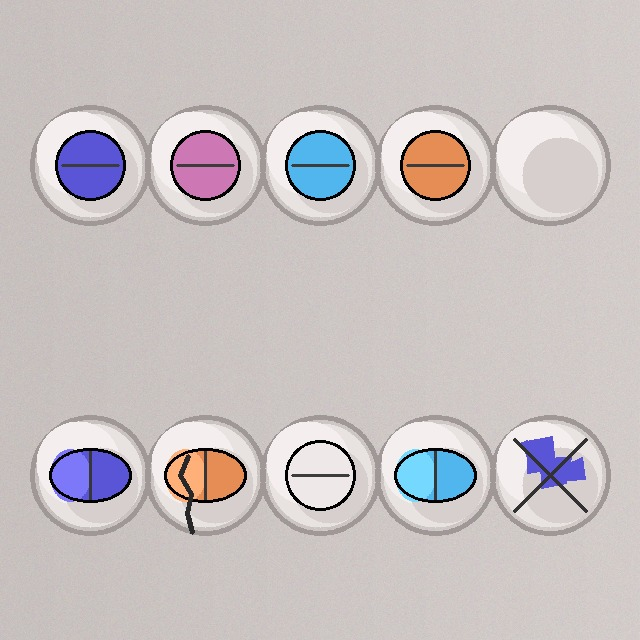broken: (488, 413, 612, 537)
crack: (143, 413, 267, 537)
missing: (488, 103, 612, 227)
